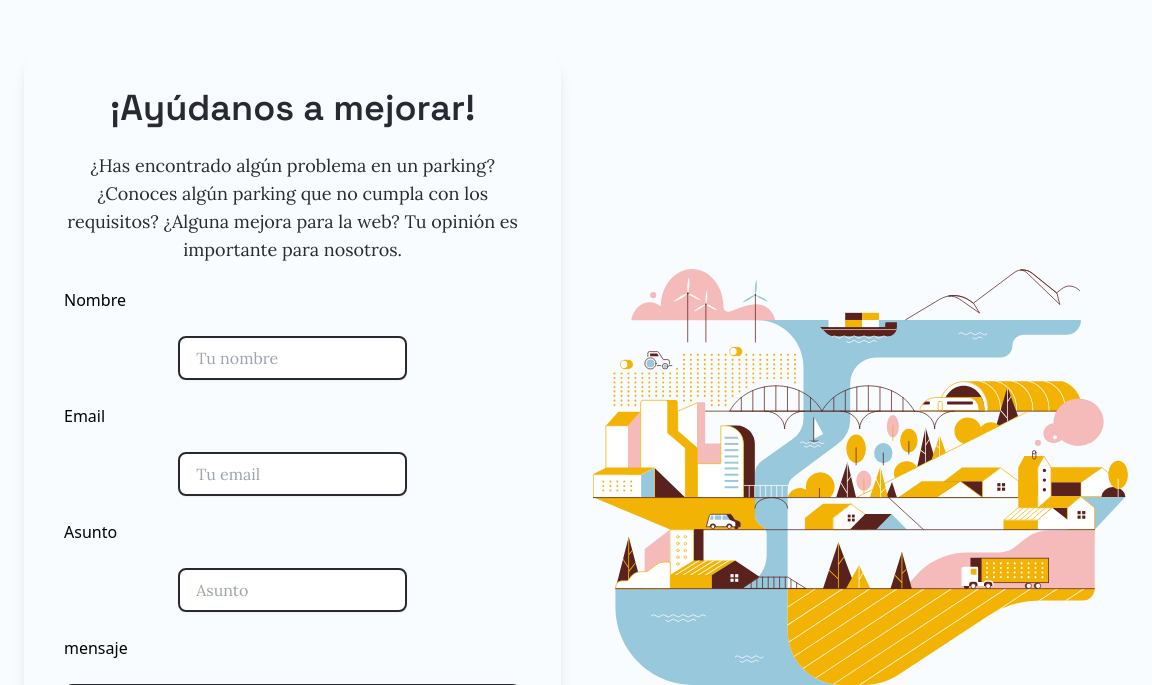
Formulario de contacto › envía el mensaje correctamente cuando se rellenan todos los campos
Step 1. Type "John Doe" into the field labelled "Nombre" → (293, 358), box x1=178 y1=336 x2=407 y2=380
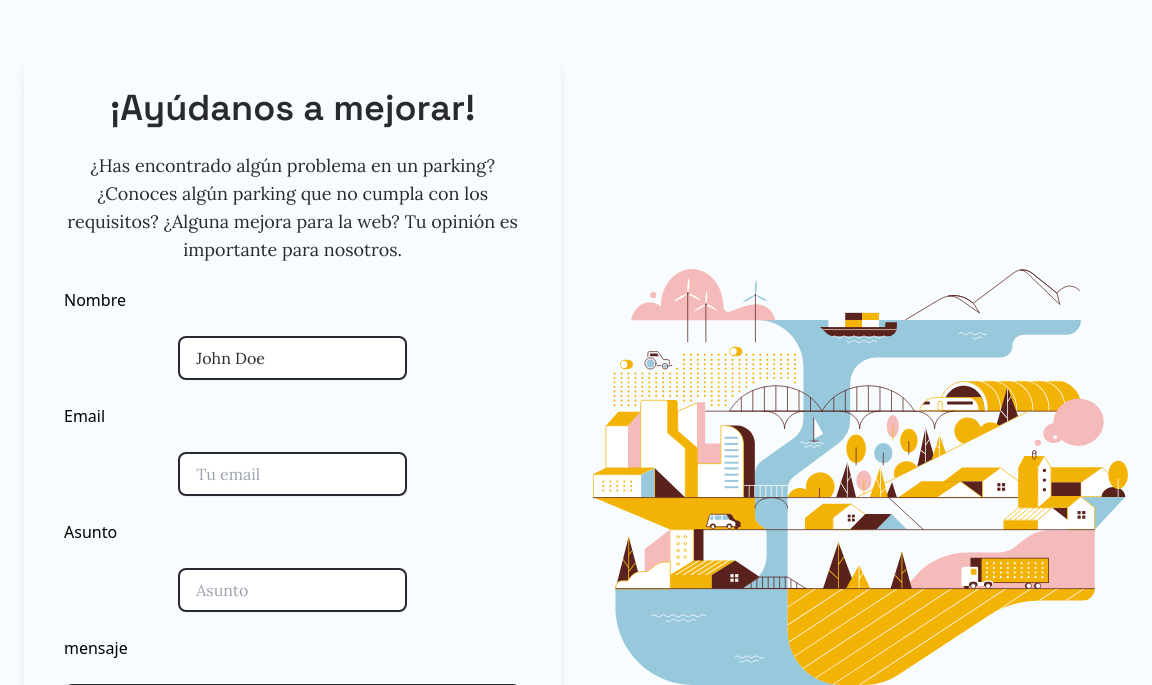
Step 2. Type "johndoe@example.com" into the field labelled "Email" → (293, 474), box x1=178 y1=452 x2=407 y2=496
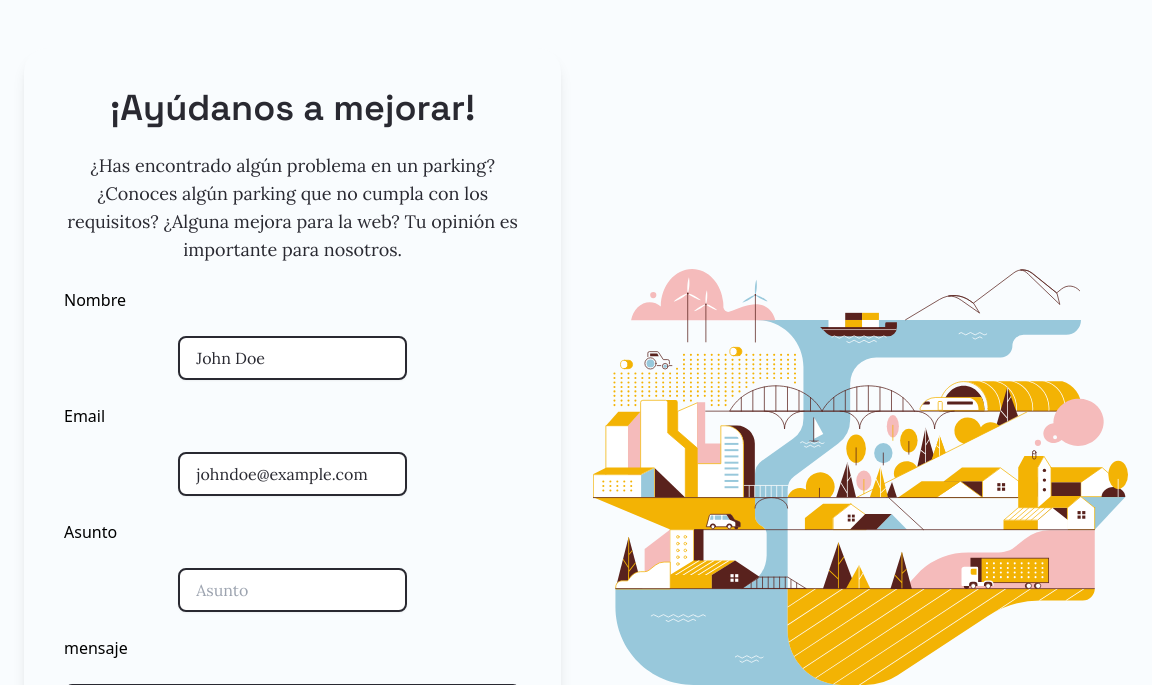
Step 3. Type "Consulta" into the field labelled "Asunto" → (293, 590), box x1=178 y1=568 x2=407 y2=612
(page scrolled)
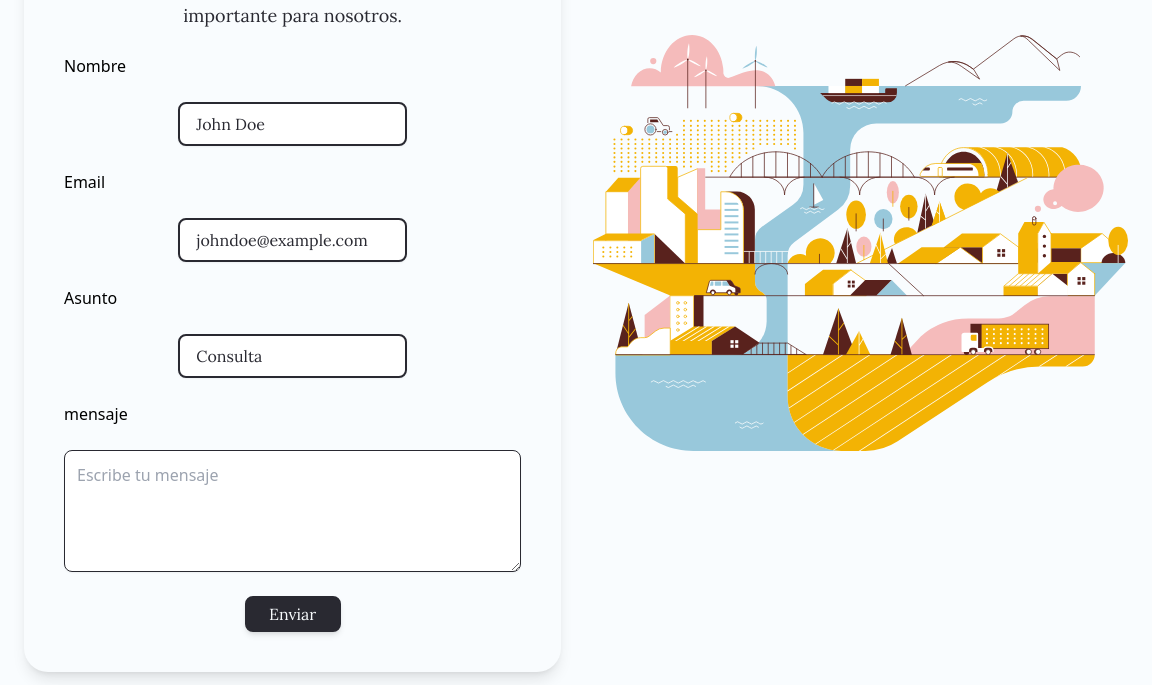
Step 4. Type "Este es un mensaje de prueba." into the text box labelled "mensaje" → (293, 511), box x1=64 y1=450 x2=521 y2=572
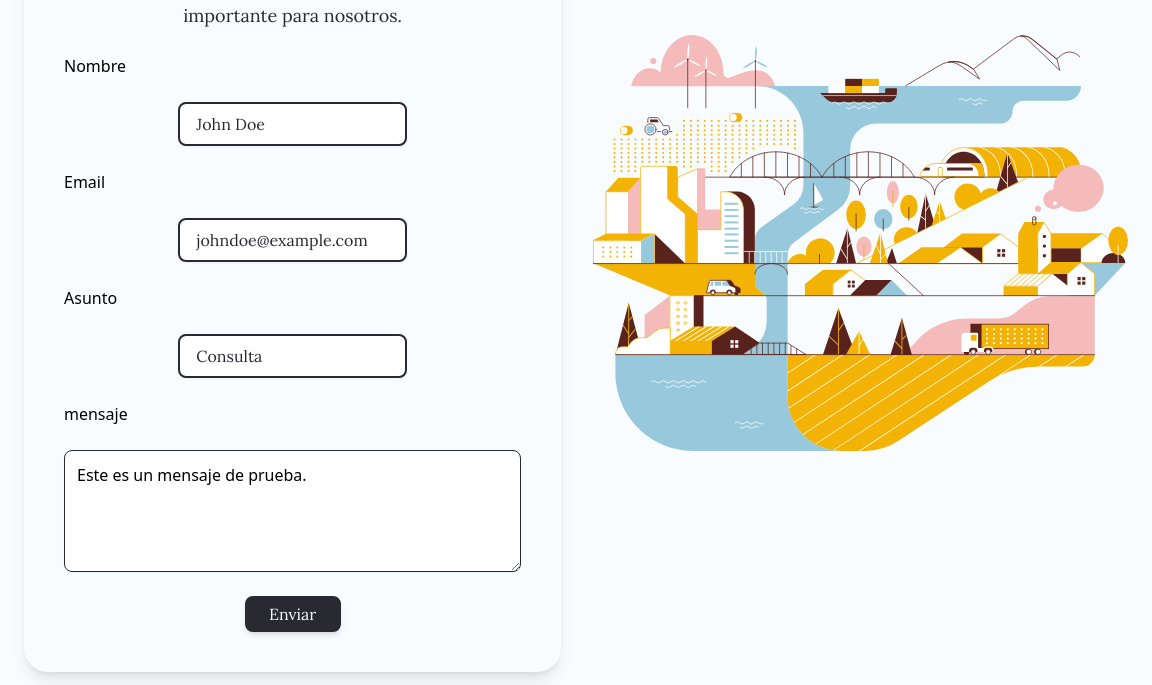
Step 5. Click the button "Enviar" → (293, 614), box x1=245 y1=596 x2=341 y2=632
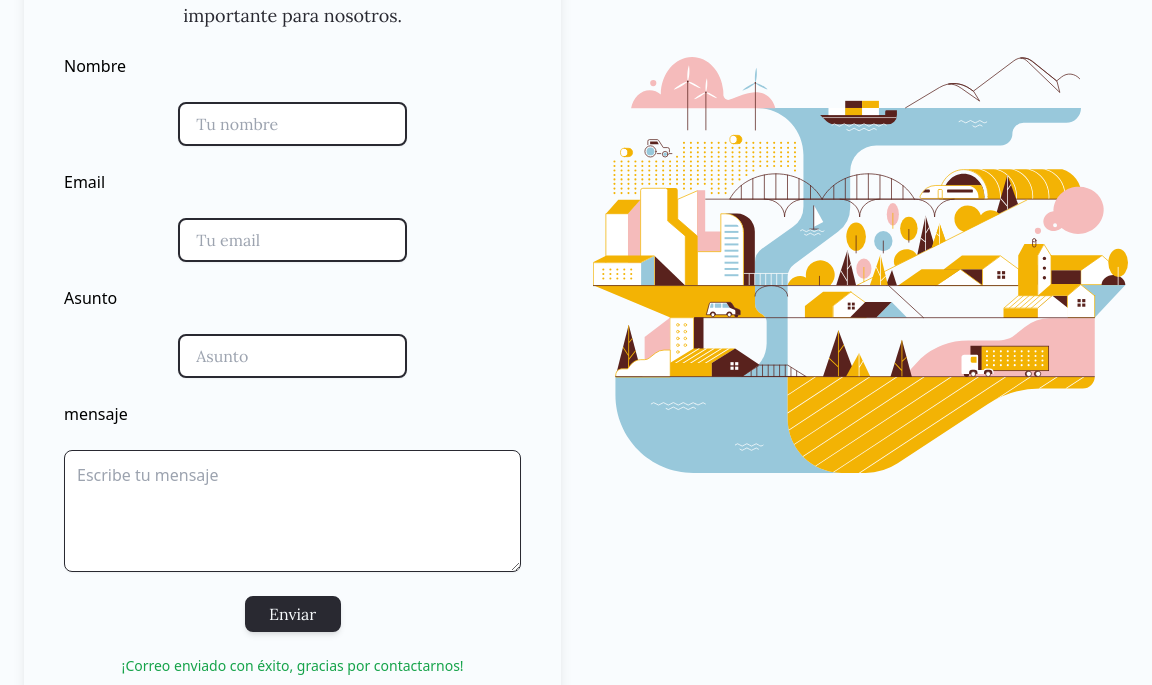
Now the text "¡Correo enviado con éxito, gracias por contactarnos!" is shown, box x1=122 y1=656 x2=464 y2=675
